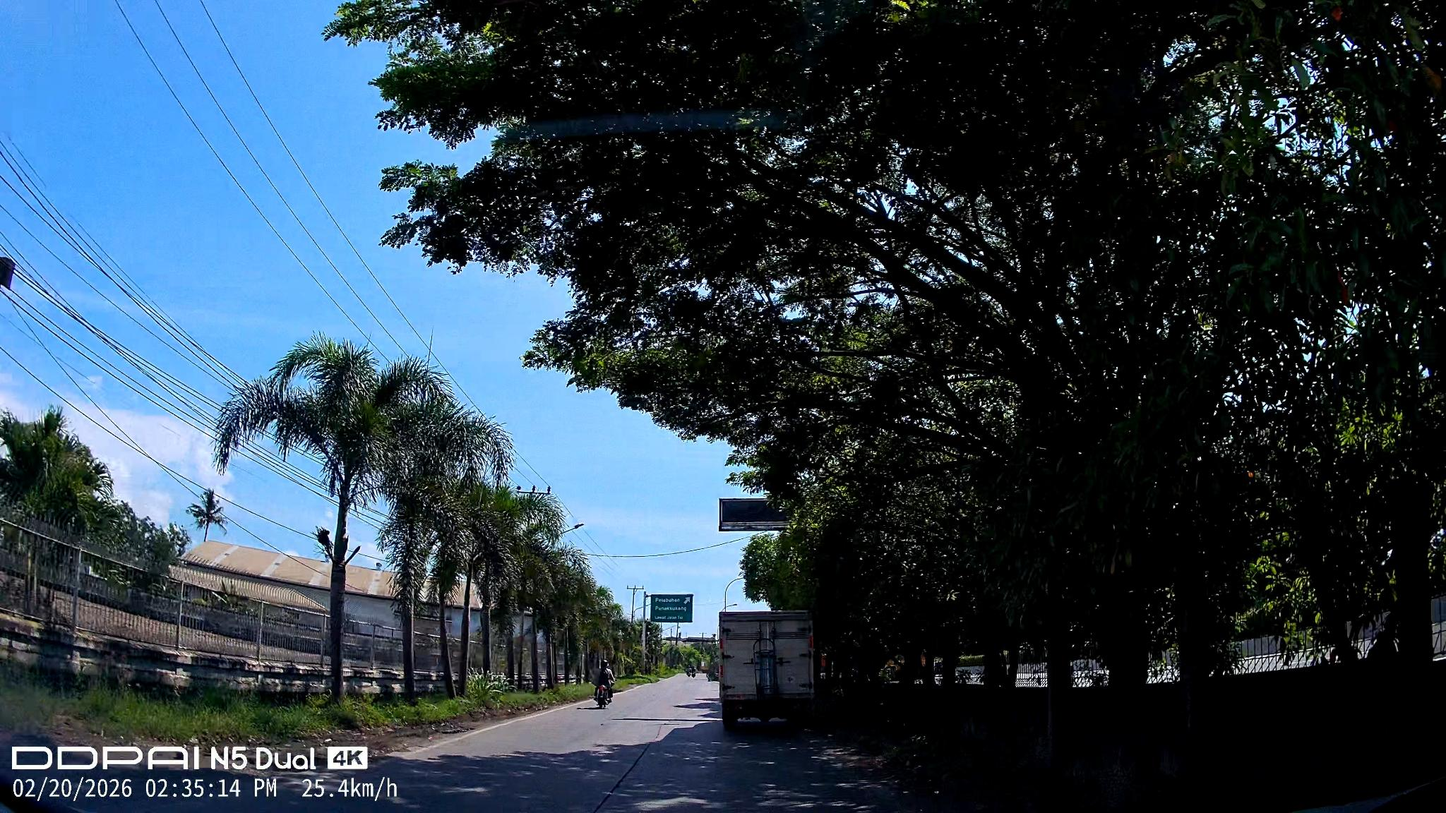rambu_teks: (650, 594, 694, 623)
